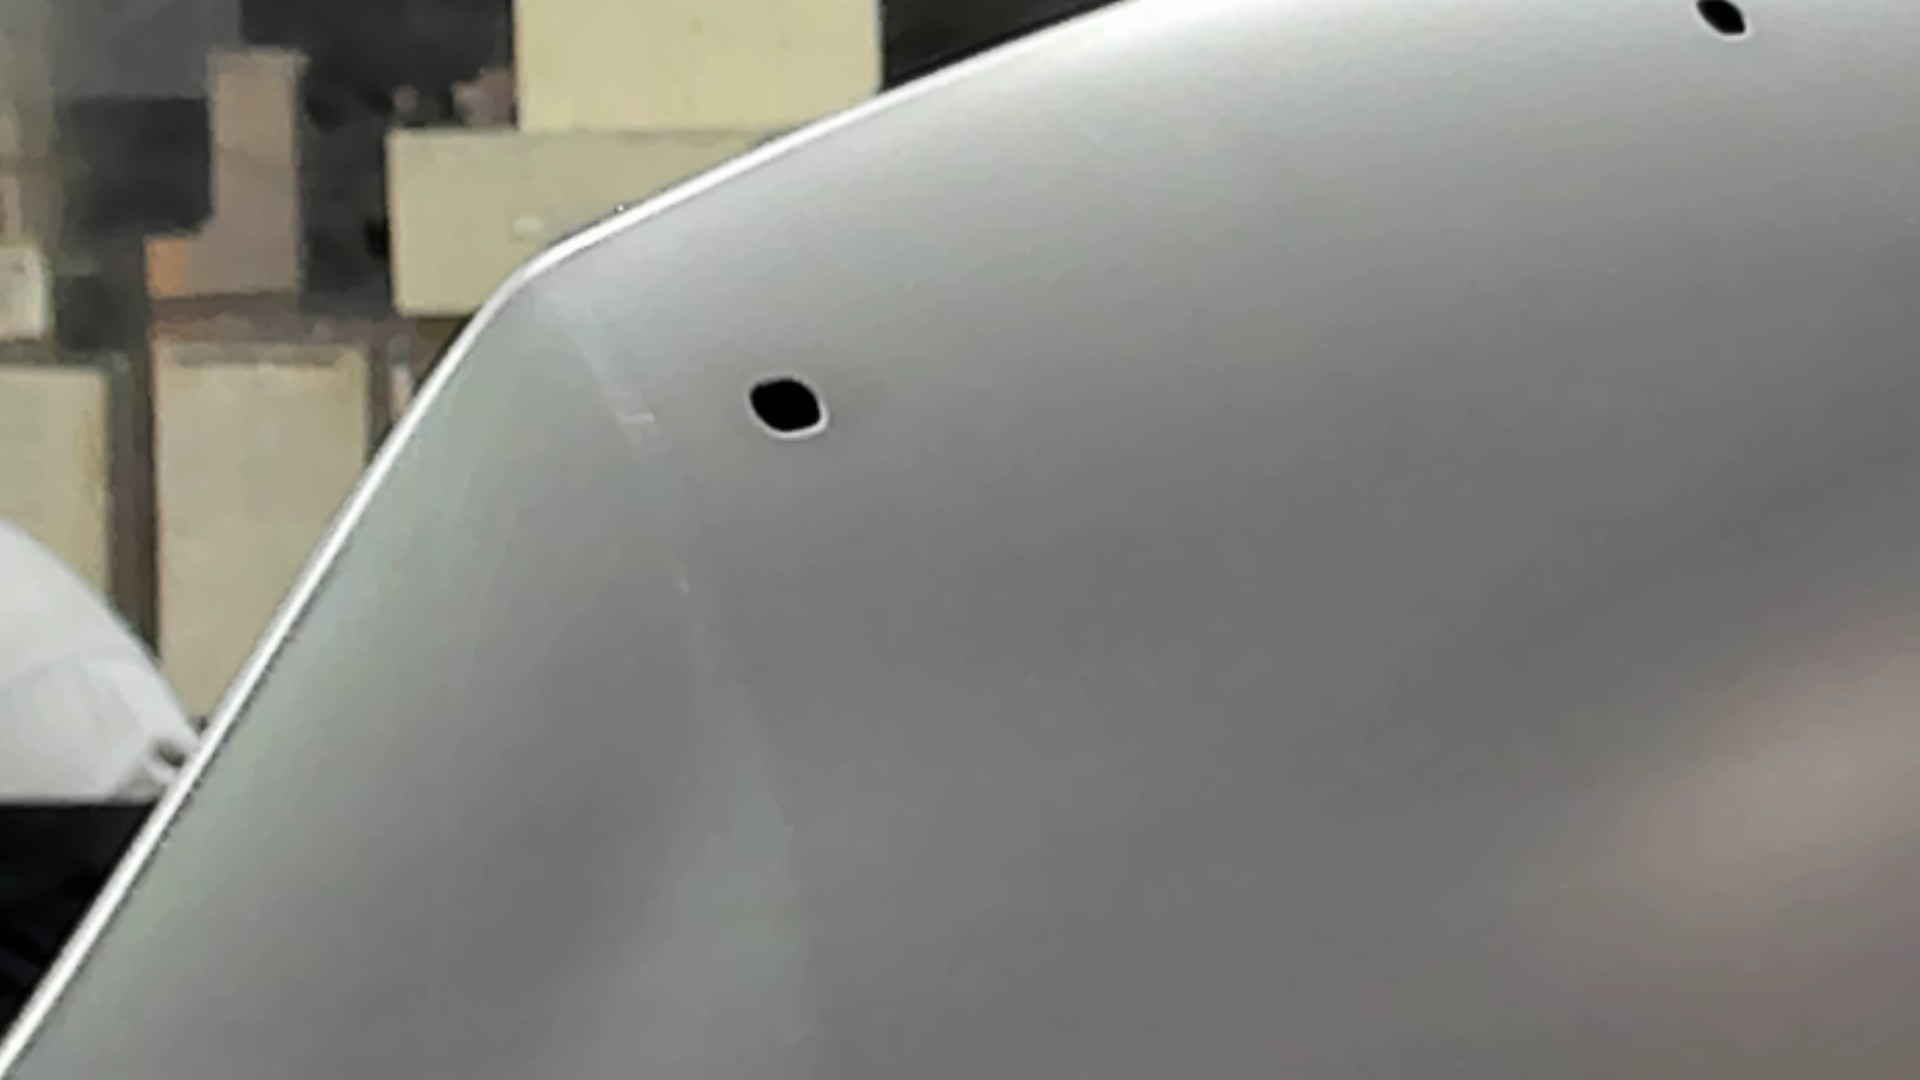amorfo: (742, 368, 833, 444), (1689, 1, 1755, 46)
capo: (914, 119, 1920, 1080)
